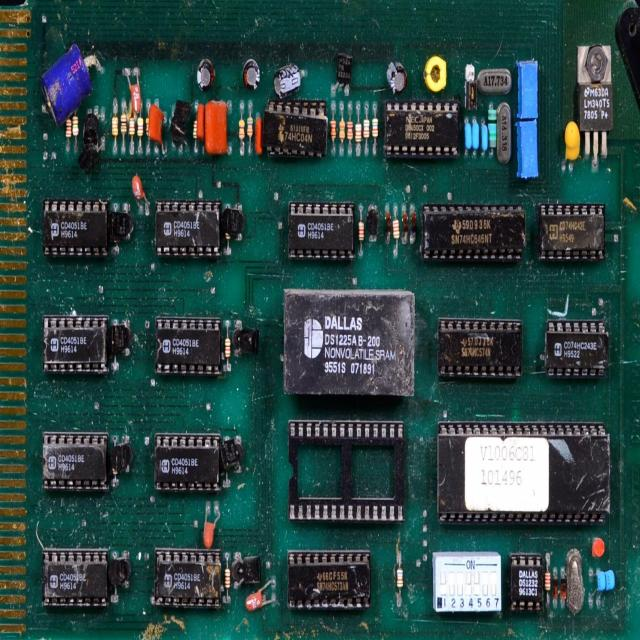Capacitor: (40, 48, 92, 116), (205, 100, 228, 160), (273, 65, 306, 95), (388, 58, 405, 102), (132, 171, 151, 208), (197, 61, 216, 95), (149, 102, 164, 144), (244, 57, 261, 93), (125, 64, 141, 95), (566, 120, 586, 144), (197, 103, 206, 147), (462, 118, 472, 155), (472, 116, 481, 157), (255, 109, 262, 154), (482, 118, 490, 154)
IC: (286, 292, 415, 401), (423, 208, 532, 270), (295, 539, 370, 616), (439, 316, 519, 388), (153, 313, 228, 384), (281, 196, 353, 265), (44, 192, 110, 264), (535, 197, 608, 257), (152, 207, 225, 266), (41, 550, 109, 608), (158, 551, 224, 609), (42, 318, 108, 372), (42, 435, 104, 492), (547, 313, 606, 372), (267, 106, 325, 166), (170, 154, 171, 170)
Resistor Network: (394, 562, 408, 604), (222, 558, 233, 602), (65, 115, 75, 149), (392, 211, 401, 248), (246, 111, 254, 144), (237, 115, 245, 148), (544, 565, 552, 598), (330, 118, 339, 146), (138, 108, 144, 149), (110, 114, 120, 138), (363, 115, 371, 141), (119, 111, 127, 136), (354, 121, 363, 142), (73, 111, 79, 142), (372, 112, 378, 143), (338, 119, 346, 141), (193, 116, 200, 141), (226, 334, 232, 361), (145, 106, 150, 138), (130, 115, 136, 140), (349, 118, 354, 148), (356, 219, 364, 236)
iC: (156, 431, 223, 494), (387, 109, 459, 161)
